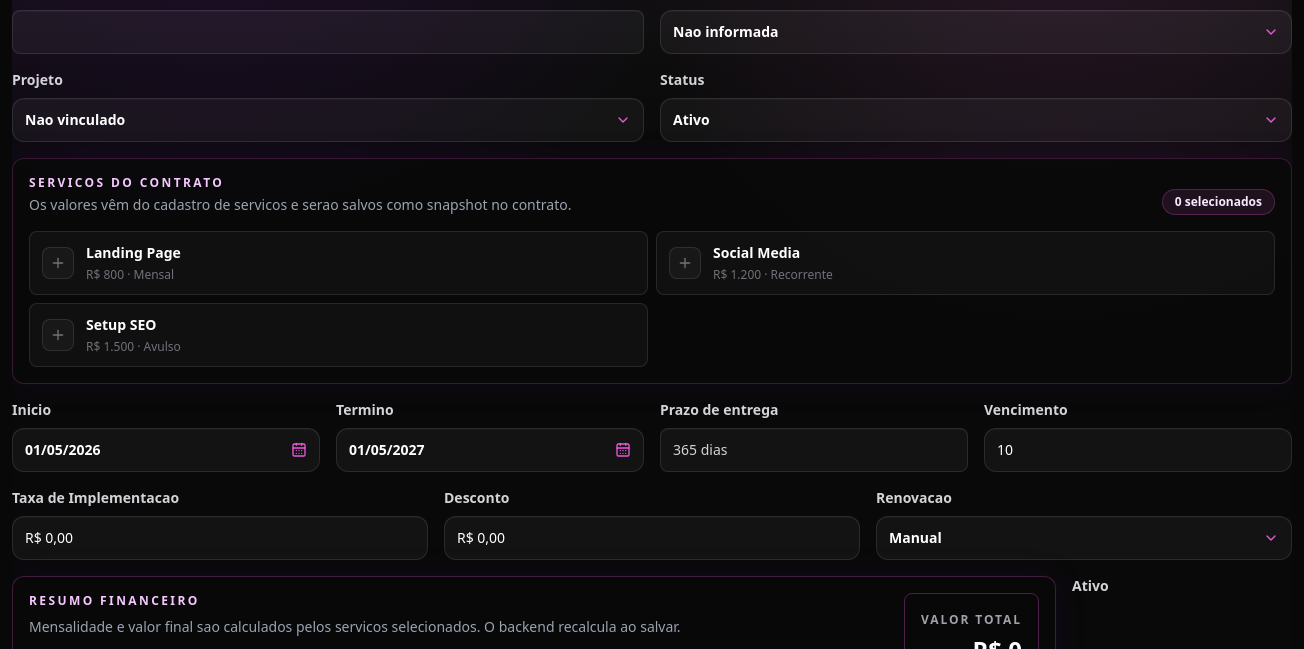
Test: ContractFormFields › calculates total from selected services, months, implementation fee and discount
Click the button "Landing Page R$ 800 · Mensal" at x=58, y=263, box [29,231,648,295]
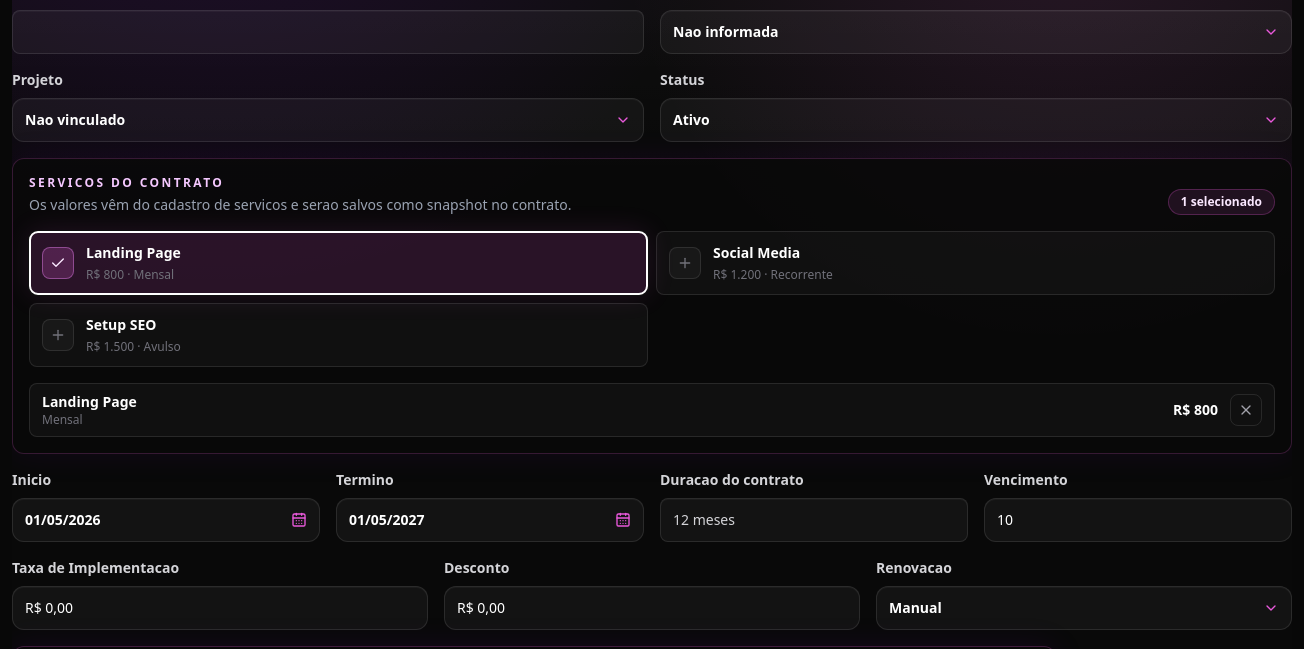
Click the button "Social Media R$ 1.200 · Recorrente" at x=685, y=263, box [656,231,1275,295]
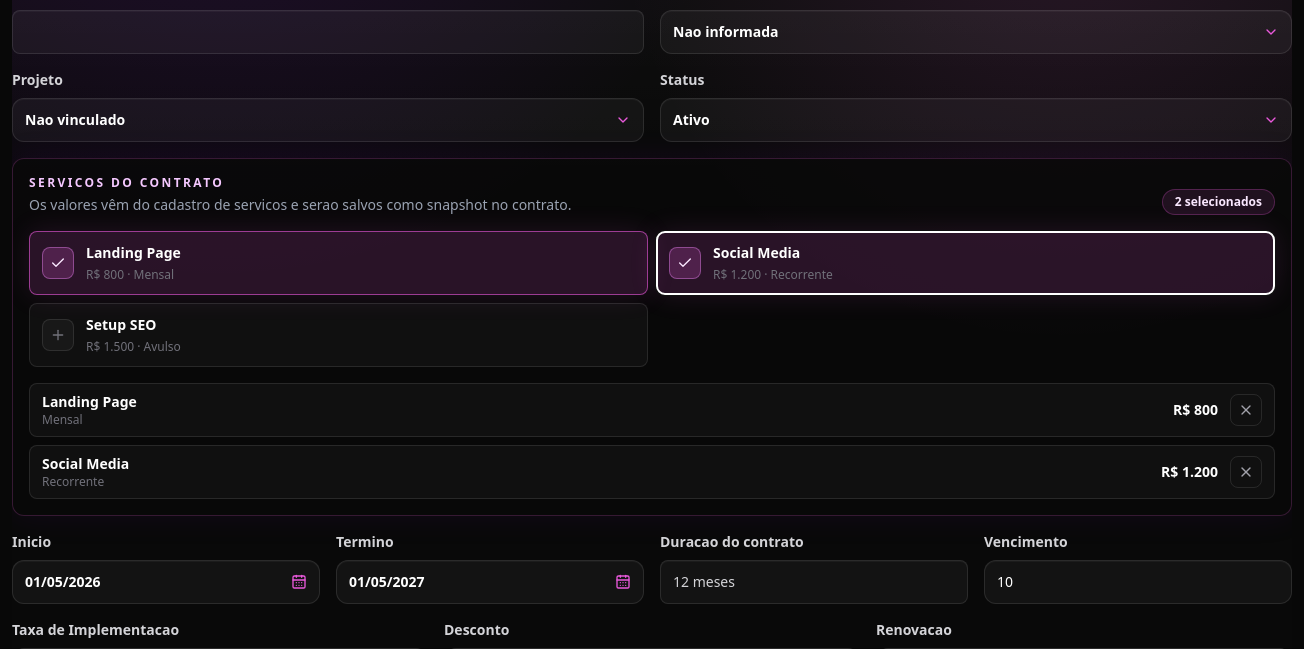
Click the button "Setup SEO R$ 1.500 · Avulso" at x=58, y=335, box [29,303,648,367]
(page scrolled)
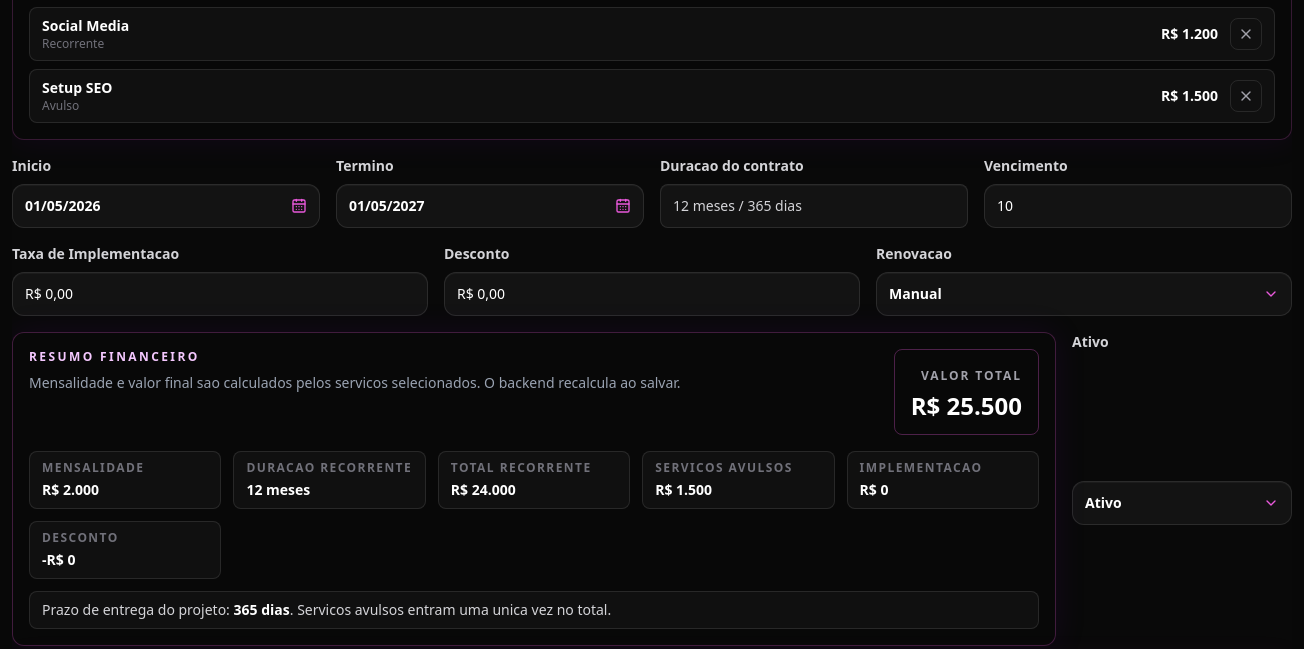
Replace the text in the field labelled "Taxa de Implementacao" with "200000" at x=220, y=294, box [12,272,428,316]
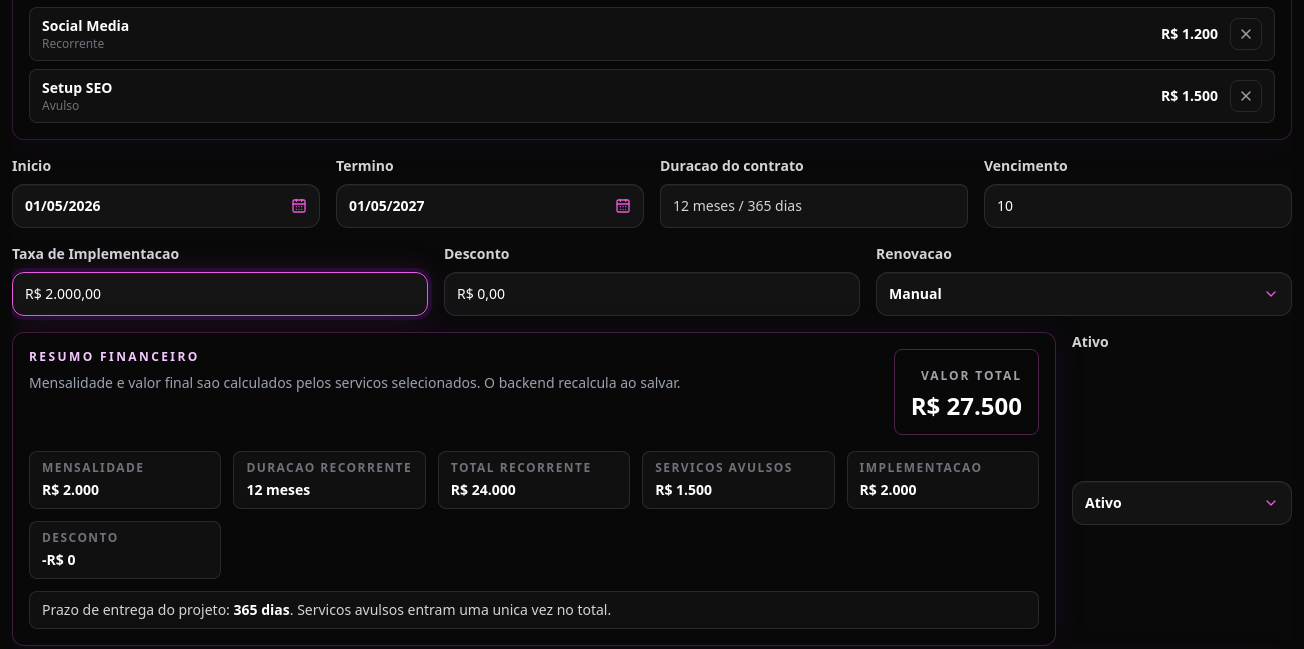
Replace the text in the field labelled "Desconto" with "50000" at x=652, y=294, box [444,272,860,316]
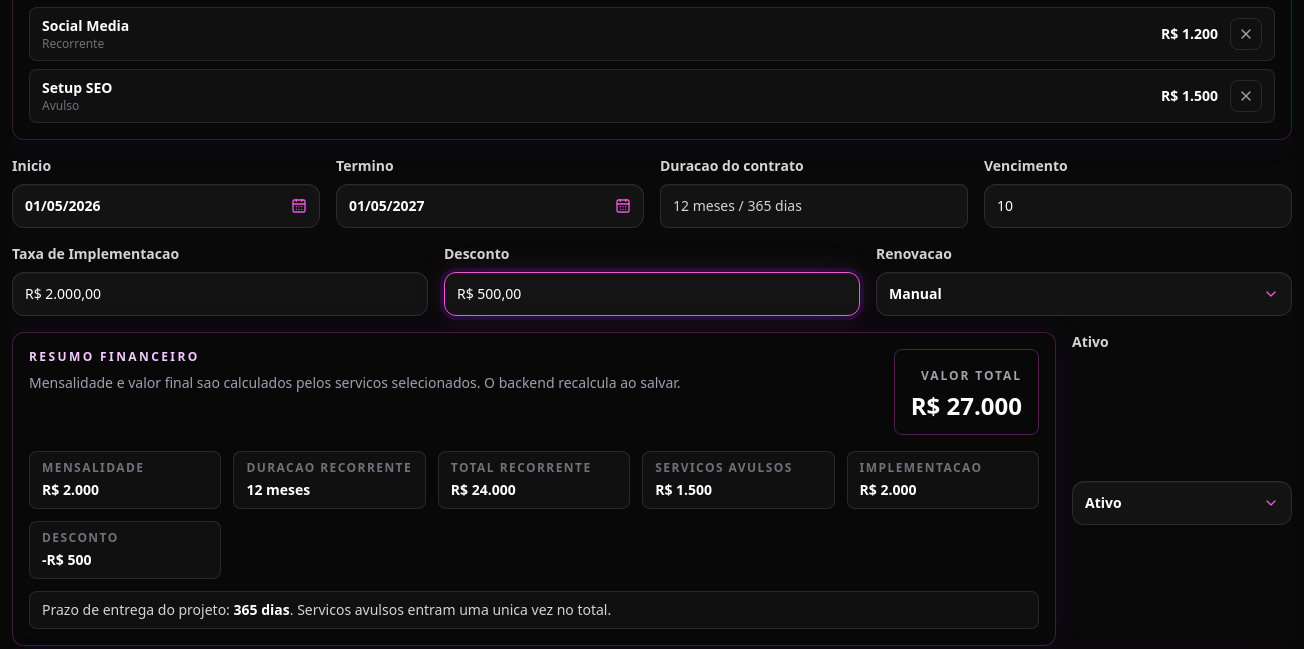
Expected: the 1st text "R$ 2.000" is shown, [42,480,99,499]
Expected: the field labelled "Duracao do contrato" holds "12 meses / 365 dias", [660,184,968,228]
Expected: the text "R$ 27.000" is shown, [911,390,1022,422]
